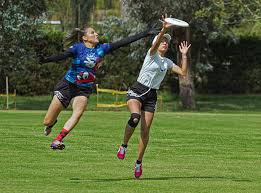disc: (162, 16, 191, 29)
